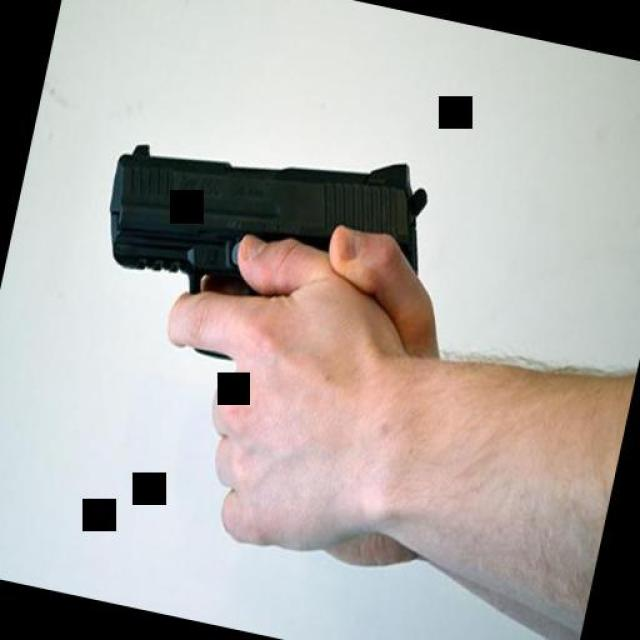gun: (76, 99, 438, 395)
